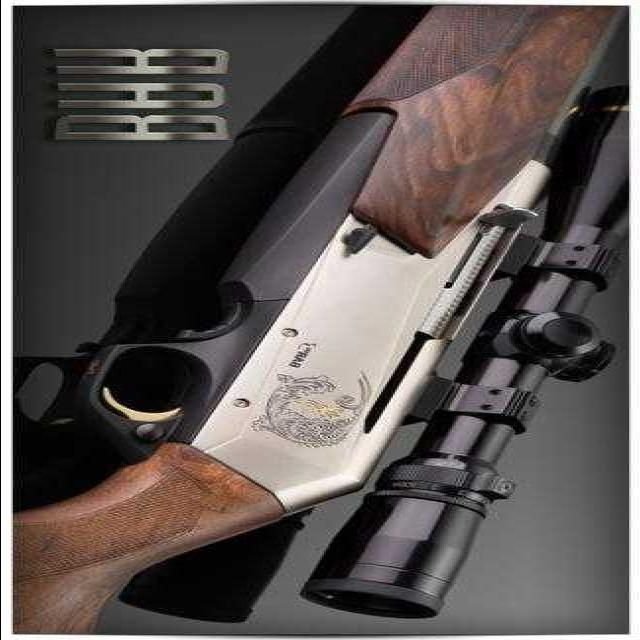heavyweapon: (7, 6, 623, 636)
